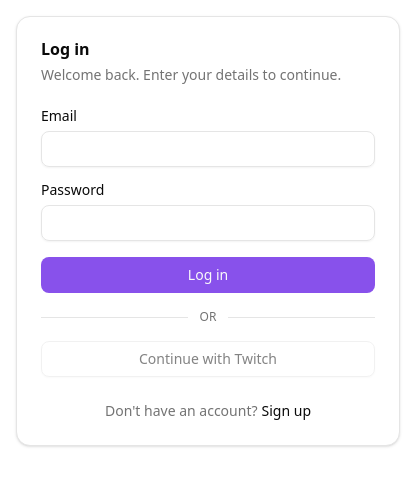
Test: LoginPage › credenciales malas: error de formulario genérico, sin decir si el email existe
Step 1. Type "alex@example.com" into the field labelled "Email" → {"x": 208, "y": 149}, box [41,131,375,167]
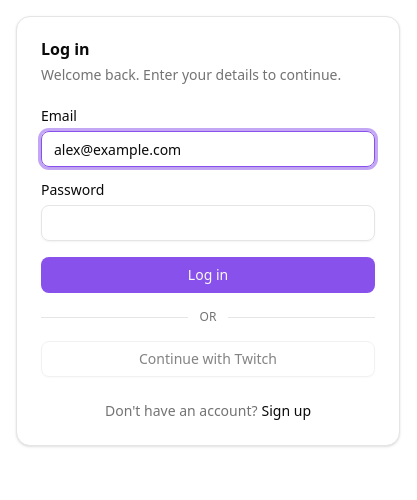
Step 2. Type "incorrecta" into the password field labelled "Password" → {"x": 208, "y": 223}, box [41,205,375,241]
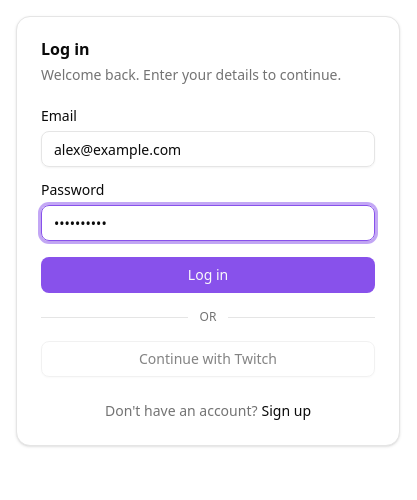
Step 3. Click the button "Log in" → {"x": 208, "y": 275}, box [41,257,375,293]
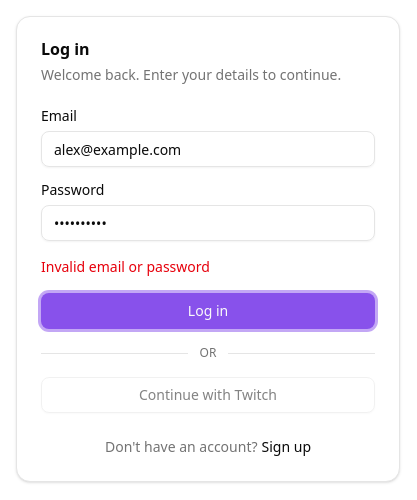
Check: the text "Invalid email or password" is shown, box [41,257,210,276]
